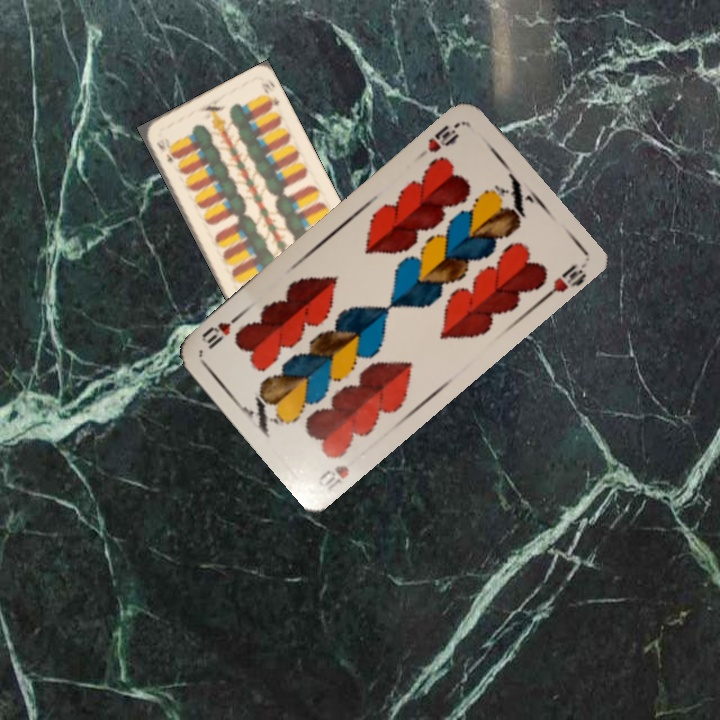E10: (152, 135, 178, 165)
H10: (414, 118, 463, 161), (313, 461, 352, 493)
